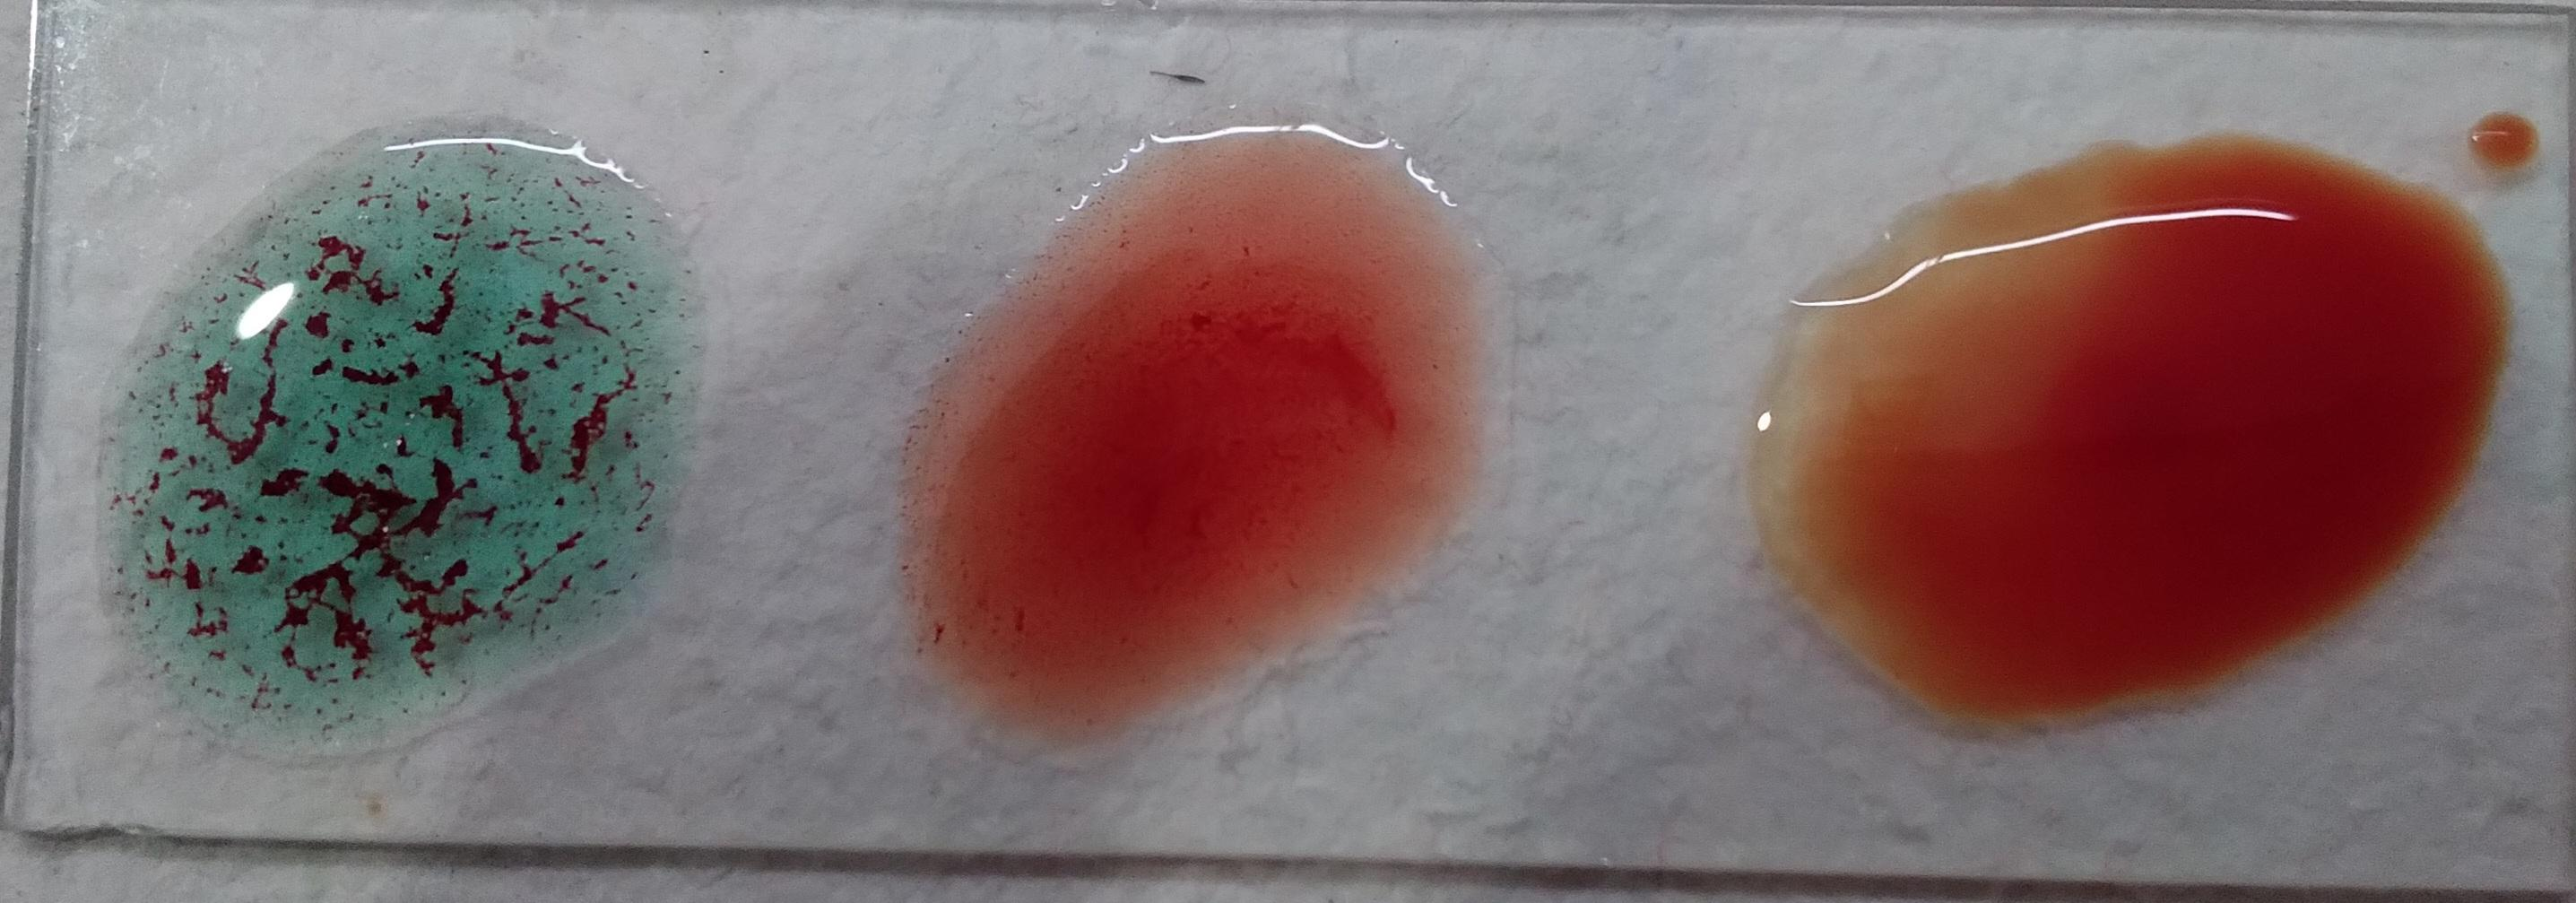A: (1893, 156, 2436, 772)
